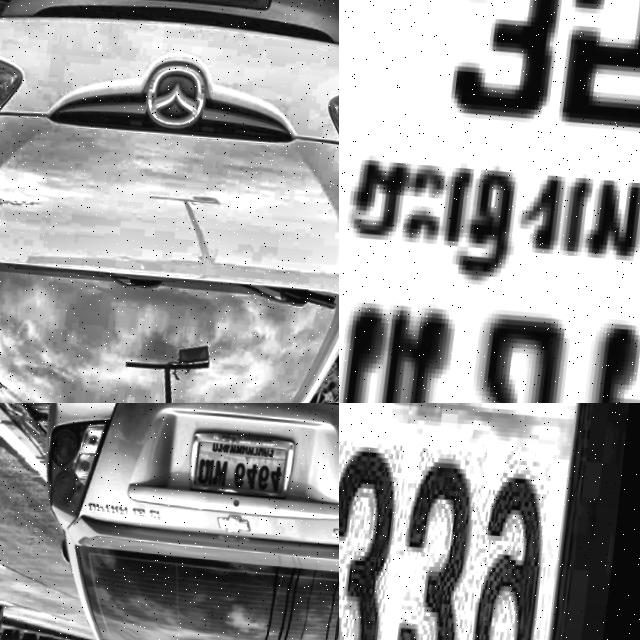license-plate: (339, 0, 640, 403), (339, 403, 640, 640), (188, 418, 305, 496)
